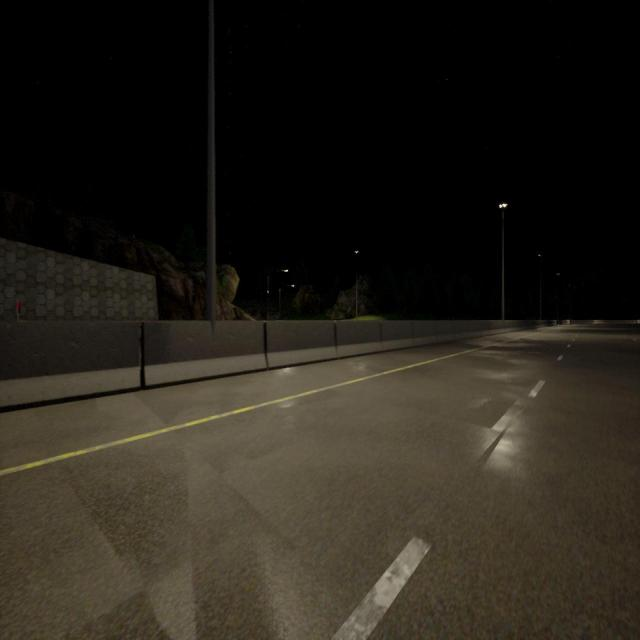traffic_light: (17, 299, 21, 314)
